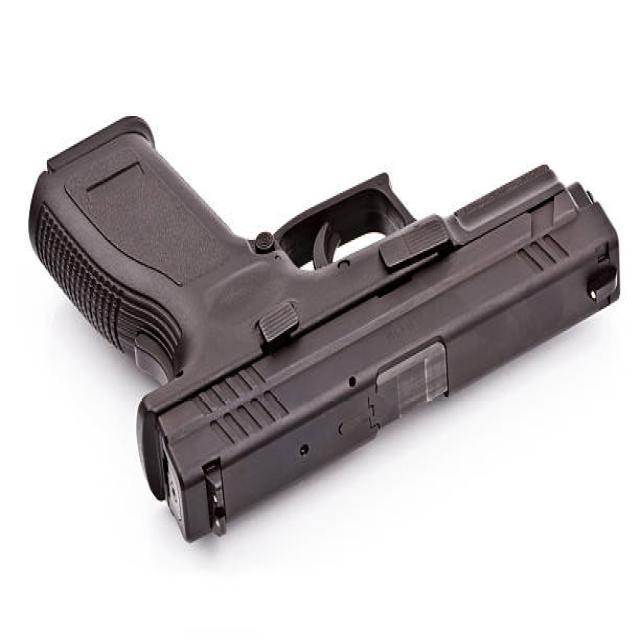pistol: (28, 104, 626, 555)
